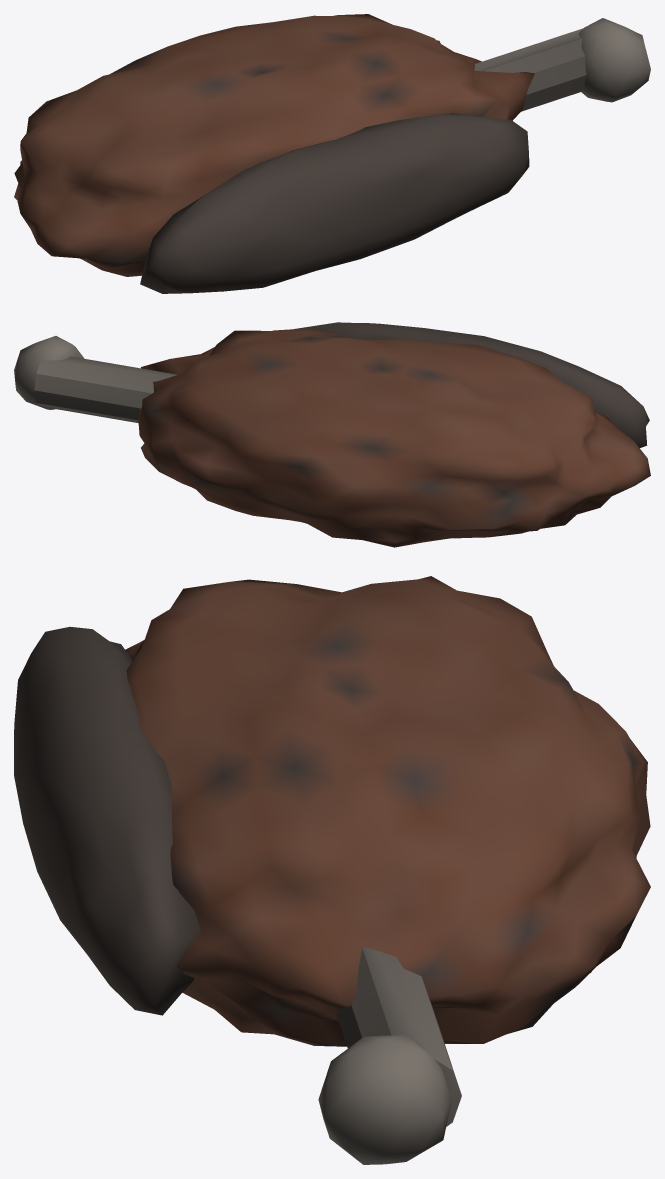
File: burnt-bear-meat.glb
3 views of the same model, one above another, from view 1: azimuth 30°, elevation 25°; view 2: azimuth 150°, elevation 25°; view 3: azimuth 270°, elevation 25° (orthographic). The views are drawn at different scales.
Visible parts, largest first — view 1: Body_lod0; view 2: Body_lod0; view 3: Body_lod0.
Boxes of the visible parts, box(x1,y1,x2,y2) form: Body_lod0: box(14, 14, 650, 293); Body_lod0: box(14, 322, 650, 547); Body_lod0: box(14, 576, 650, 1164).
Size of what is drawn, in the model's own units: 0.2212 by 0.0433 by 0.1185.
